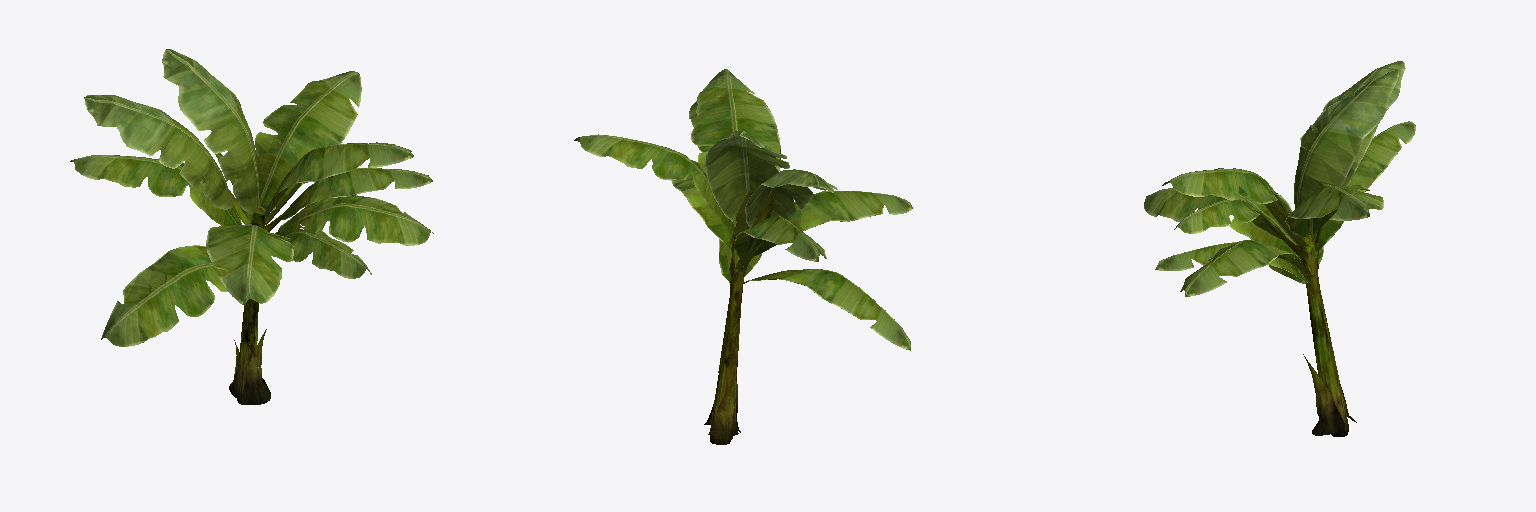
The picture shows the model from 3 angles: view 1: azimuth 30°, elevation 25°; view 2: azimuth 150°, elevation 25°; view 3: azimuth 270°, elevation 25°; orthographic projection.
Visible parts, largest first — view 1: objloftedSurface8, objpCube2; view 2: objloftedSurface8, objpCube2; view 3: objloftedSurface8, objpCube2.
Boxes of the visible parts, x1,y1,x2,y2 form: objloftedSurface8: [70, 49, 433, 346]; objpCube2: [215, 153, 301, 404]; objloftedSurface8: [574, 69, 912, 350]; objpCube2: [704, 187, 774, 444]; objloftedSurface8: [1144, 61, 1415, 296]; objpCube2: [1264, 201, 1356, 436].
Size of the model in its own units: 581 by 637 by 459.
4 materials, 3 textured.